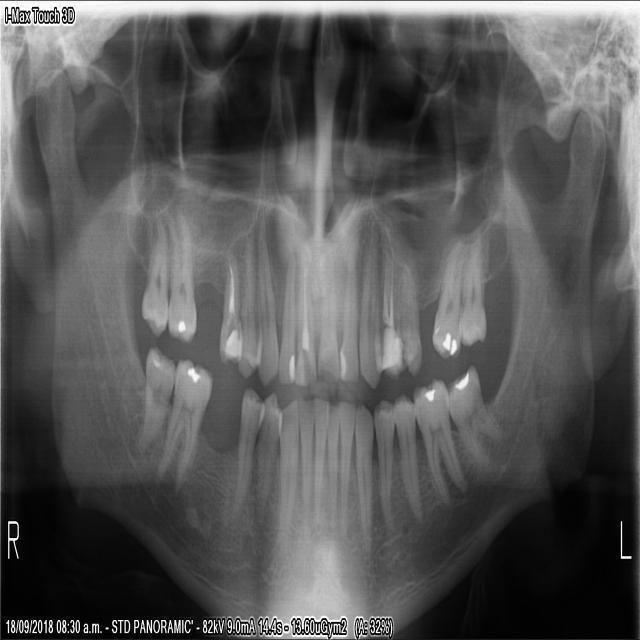LCD: (354, 405, 374, 544)
LCU: (359, 230, 382, 390)
LID: (340, 399, 358, 534), (327, 398, 340, 534)
LIU: (316, 248, 340, 389), (340, 242, 359, 384)
LMD: (413, 373, 469, 507), (444, 360, 504, 469)
LMU: (428, 235, 464, 362), (457, 244, 487, 350)
LPMD: (394, 394, 426, 528), (373, 400, 396, 532)
LPMU: (373, 233, 407, 385), (400, 247, 423, 372)
RCD: (278, 394, 298, 540)
RCU: (257, 230, 279, 389)
RID: (298, 398, 316, 538), (313, 395, 330, 524)
RIU: (295, 248, 317, 390), (277, 250, 296, 388)
RMD: (156, 355, 215, 488), (138, 345, 176, 452)
RMU: (165, 207, 197, 347), (139, 217, 168, 340)
RPMD: (234, 388, 263, 514), (255, 387, 281, 524)
RPMU: (238, 227, 260, 383), (217, 240, 242, 370)
